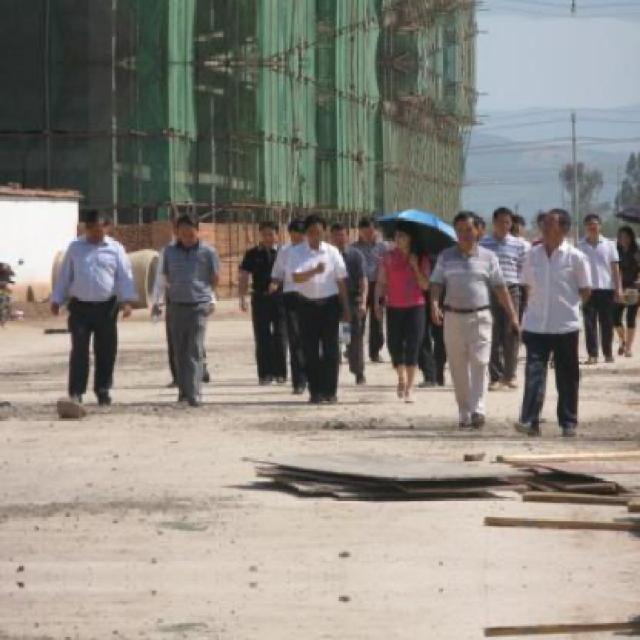sin casco: (114, 201, 258, 269), (271, 212, 361, 259), (435, 201, 501, 261), (57, 193, 120, 246), (534, 205, 580, 247)
